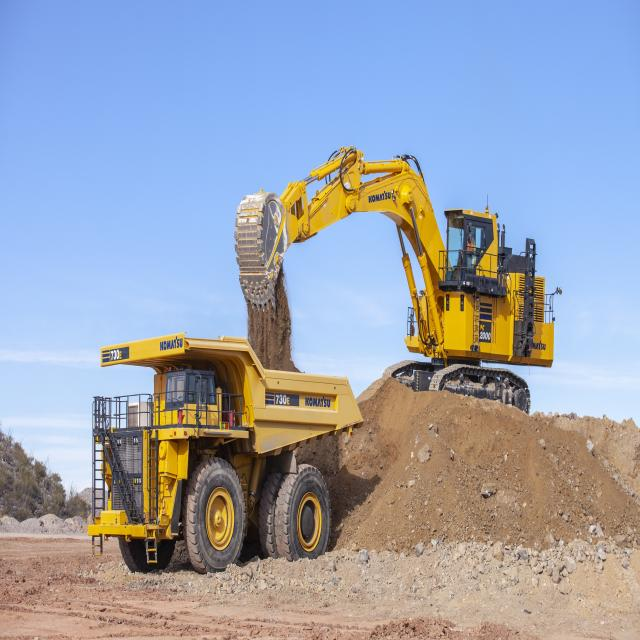dump_truck: (80, 325, 362, 587)
excavator: (236, 140, 562, 420)
